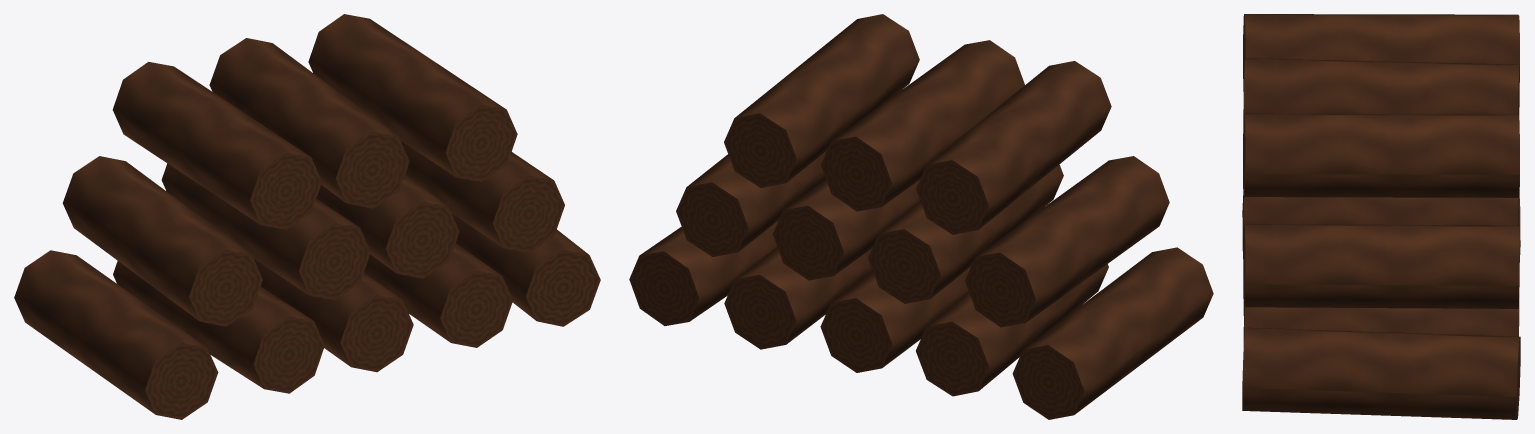
Rendered from woodpile_v4.obj.
The picture shows the model from 3 angles, left to right: view 1: azimuth 30°, elevation 25°; view 2: azimuth 150°, elevation 25°; view 3: azimuth 270°, elevation 25°; orthographic projection. The views are drawn at different scales.
Parts seen in each view (by area): view 1: woodpile_v4; view 2: woodpile_v4; view 3: woodpile_v4.
Part boxes in pixels (box(x1,y1,x2,y2)): woodpile_v4: box(14, 14, 600, 419); woodpile_v4: box(629, 14, 1213, 419); woodpile_v4: box(1242, 14, 1520, 419).
Bounding box in the file's own units: 2.66 × 1.34 × 1.32.
Materials: 2 (2 with a texture image).
